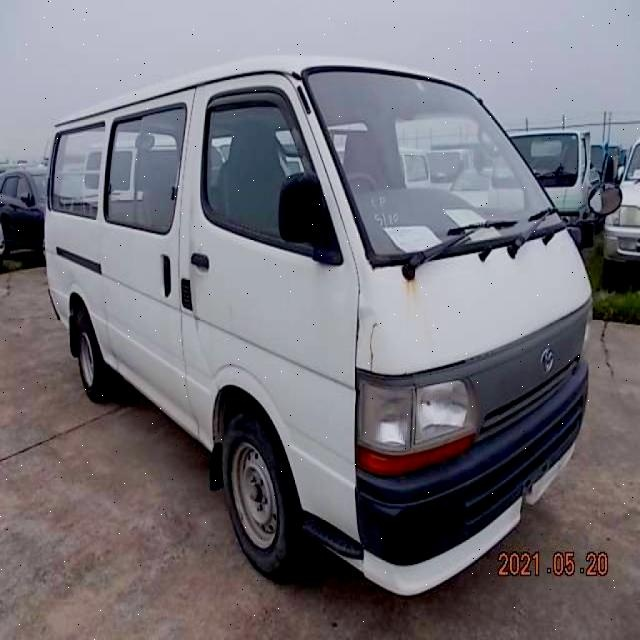Van: (44, 53, 590, 587)
